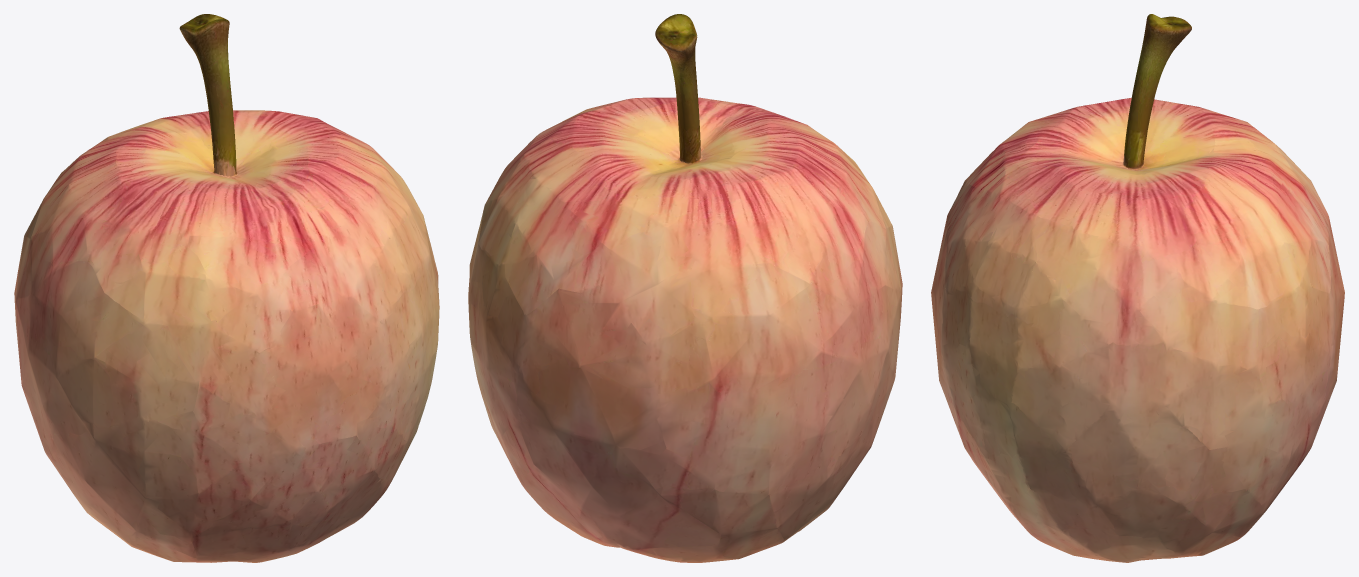
The model's file is kitchen-apple-09.glb.
3 views of the same model, side by side, from view 1: azimuth 30°, elevation 25°; view 2: azimuth 150°, elevation 25°; view 3: azimuth 270°, elevation 25° (orthographic). The views are drawn at different scales.
Size of the model in its own units: 1.45 by 1.9 by 1.4.
1 material, 1 textured.
